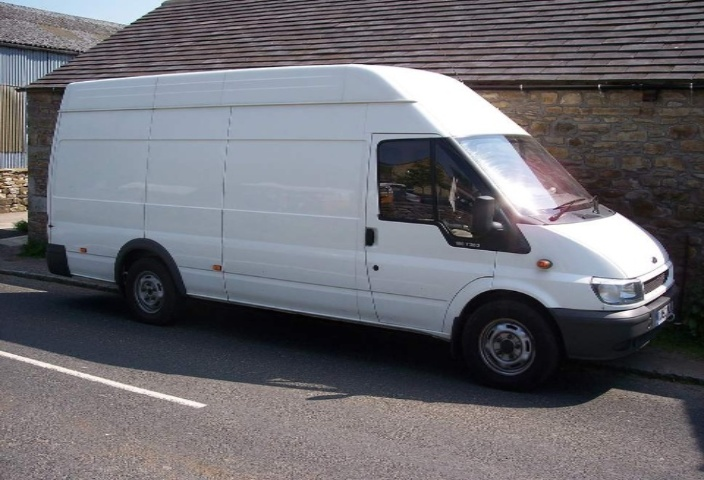van: (35, 42, 682, 396)
